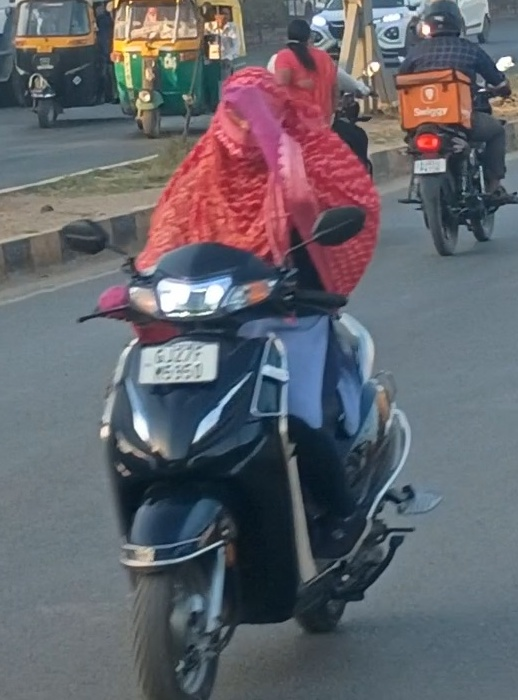BikeWithRider: (51, 18, 449, 700), (386, 0, 518, 262)
Helmet: (412, 0, 471, 43)
NoHelmet: (201, 62, 292, 167)
